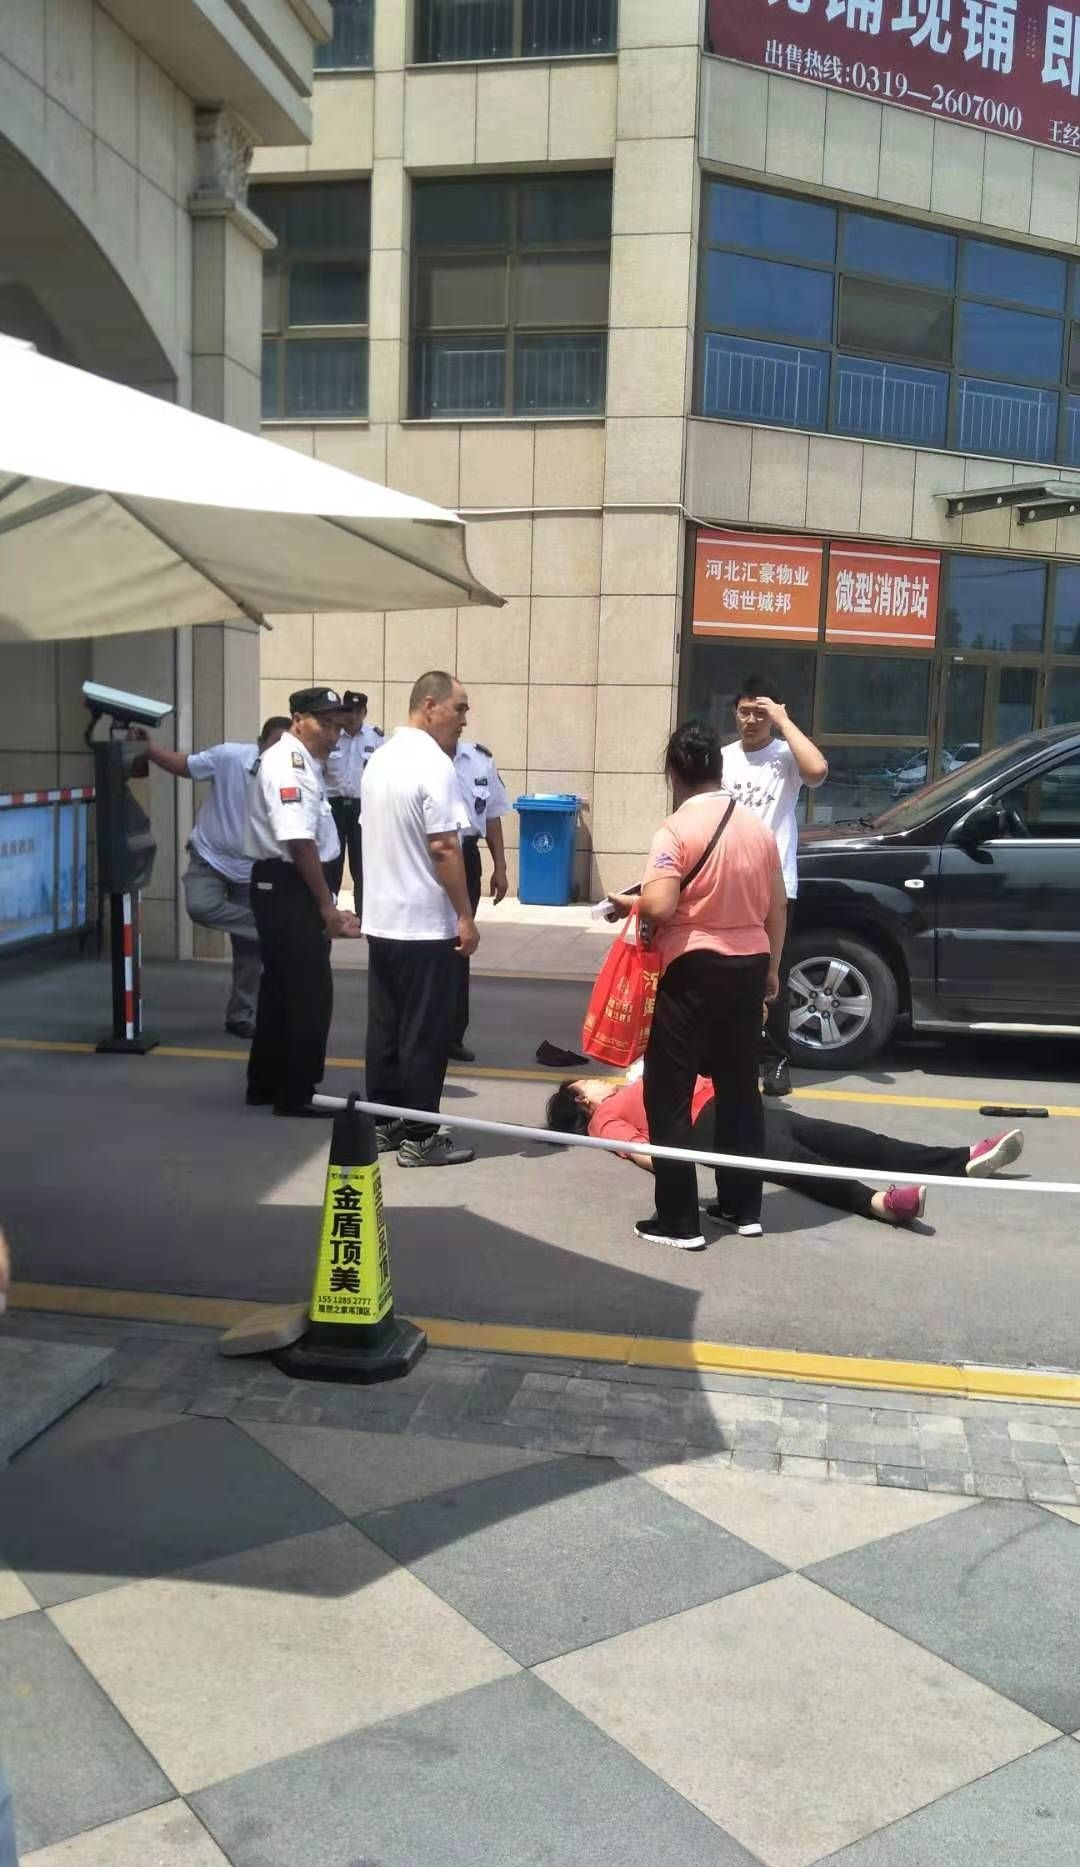falling: (518, 1025, 1039, 1261)
